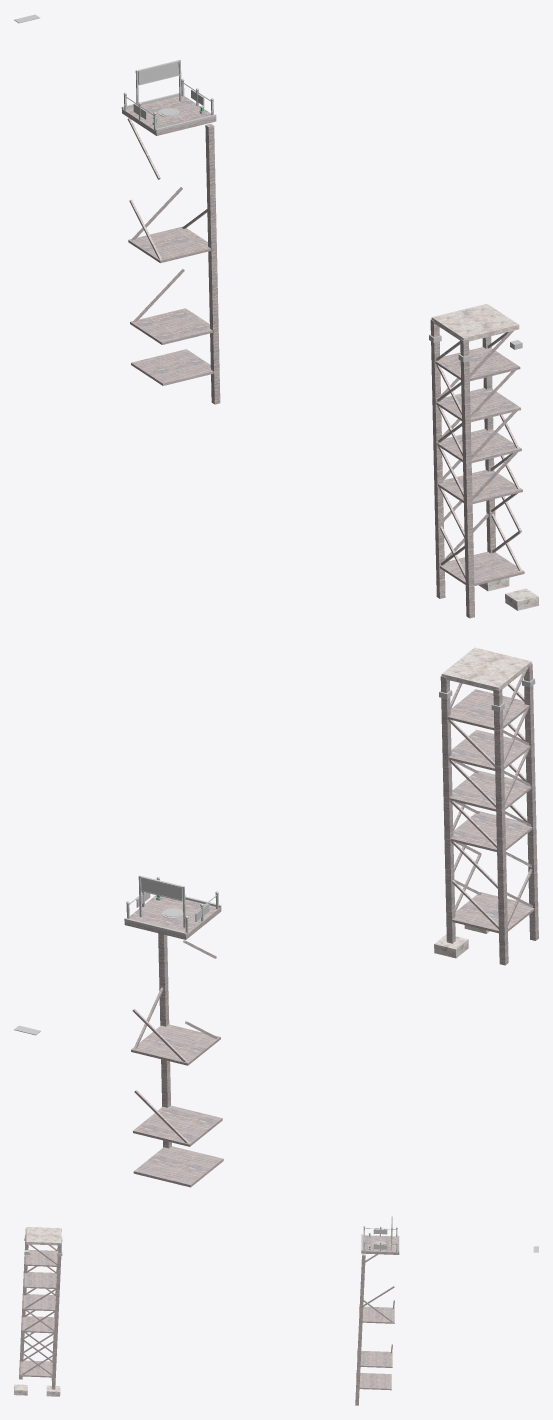
Rendered from HighwireHorizon_06.obj.
3 renders of one model, top to bottom at view 1: azimuth 30°, elevation 25°; view 2: azimuth 150°, elevation 25°; view 3: azimuth 270°, elevation 25°, orthographic. The views are drawn at different scales.
Visible parts, largest first — view 1: Box0116, Box0055, Box0026, Box0204, Box0136, Box0146, Box00110, Box0166, Box0134, Box0184, Box0174, Box0164 (+2 smaller); view 2: Box0026, Box0085, Box0204, Box0055, Box0136, Box0146, Box00110, Box0166, Box0184, Box0154, Box0174, Box0134 (+2 smaller); view 3: Box0116, Box0204, Box0085, Box00110, Box0136, Box0174, Box0146, Box0164, Box0166, Box0184, Box0154, Box0134 (+1 smaller).
Boxes of the visible parts, x1,y1,x2,y2 form: Box0116: [205, 124, 220, 404]; Box0055: [460, 339, 474, 618]; Box0026: [430, 319, 445, 598]; Box0204: [431, 304, 519, 341]; Box0136: [131, 349, 213, 385]; Box0146: [130, 308, 212, 344]; Box00110: [122, 96, 216, 135]; Box0166: [128, 226, 210, 263]; Box0134: [440, 551, 524, 585]; Box0184: [435, 347, 520, 381]; Box0174: [436, 388, 520, 422]; Box0164: [437, 429, 521, 462]; Box0026: [493, 688, 508, 965]; Box0085: [440, 676, 455, 943]; Box0204: [441, 647, 531, 690]; Box0055: [524, 663, 538, 940]; Box0136: [133, 1146, 223, 1187]; Box0146: [133, 1105, 222, 1146]; Box00110: [124, 895, 221, 939]; Box0166: [131, 1024, 220, 1065]; Box0184: [447, 689, 529, 730]; Box0154: [450, 811, 532, 851]; Box0174: [448, 729, 530, 770]; Box0134: [452, 892, 534, 933]; Box0116: [355, 1254, 365, 1405]; Box0204: [26, 1227, 61, 1245]; Box0085: [51, 1243, 61, 1389]; Box00110: [361, 1235, 399, 1254]; Box0136: [356, 1373, 391, 1390]; Box0174: [24, 1272, 56, 1288]; Box0146: [357, 1350, 392, 1367]; Box0164: [23, 1294, 55, 1311]; Box0166: [359, 1306, 394, 1323]; Box0184: [25, 1249, 57, 1266]; Box0154: [22, 1316, 54, 1333]; Box0134: [20, 1360, 52, 1377].
Bounding box in the file's own units: 15.52 × 71.56 × 193.
7 materials, 6 textured.
